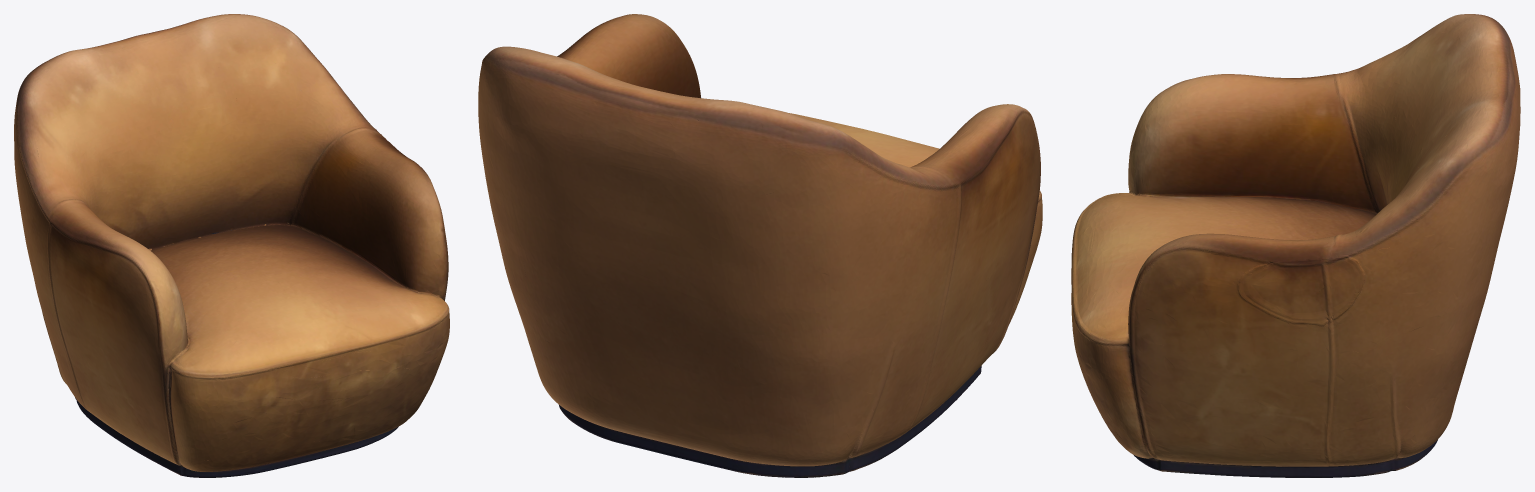
File: product-farmhouse-julius-swivel-chair-nubuck-cognac-06.glb
The picture shows the model from 3 angles, left to right: view 1: azimuth 30°, elevation 25°; view 2: azimuth 150°, elevation 25°; view 3: azimuth 270°, elevation 25°; orthographic projection. The views are drawn at different scales.
Parts seen in each view (by area): view 1: geometry_0; view 2: geometry_0; view 3: geometry_0.
Part boxes in pixels (x1,y1,x2,y2): geometry_0: (14, 14, 449, 477); geometry_0: (478, 14, 1042, 477); geometry_0: (1071, 14, 1520, 477).
Bounding box in the file's own units: 0.8919 × 0.7727 × 0.9144.
Materials: 1 (1 with a texture image).
